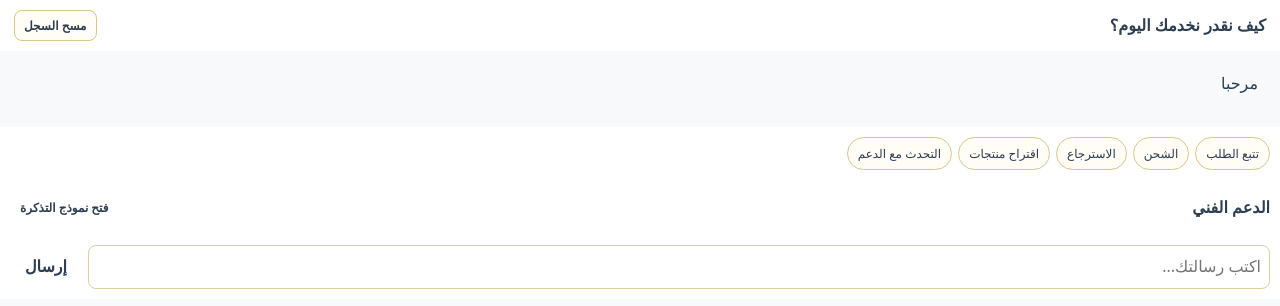
Test: ChatPanel chat flows › clears transcript via callable and local storage
The image size is (1280, 306).
What coordinates should you click on to do the following:
click the button "مسح السجل"
I would click on:
 (55, 26)
Its box is [14,10,96,41].
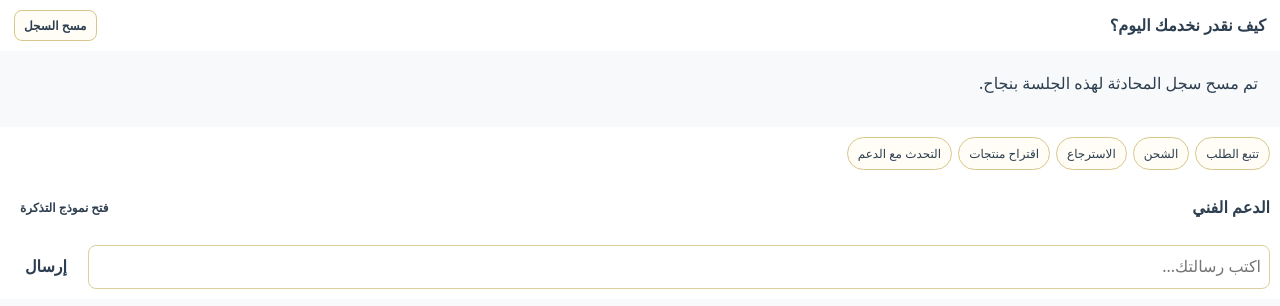
Check: the text "تم مسح سجل المحادثة لهذه الجلسة بنجاح." is shown, box [979,72,1258,94]
